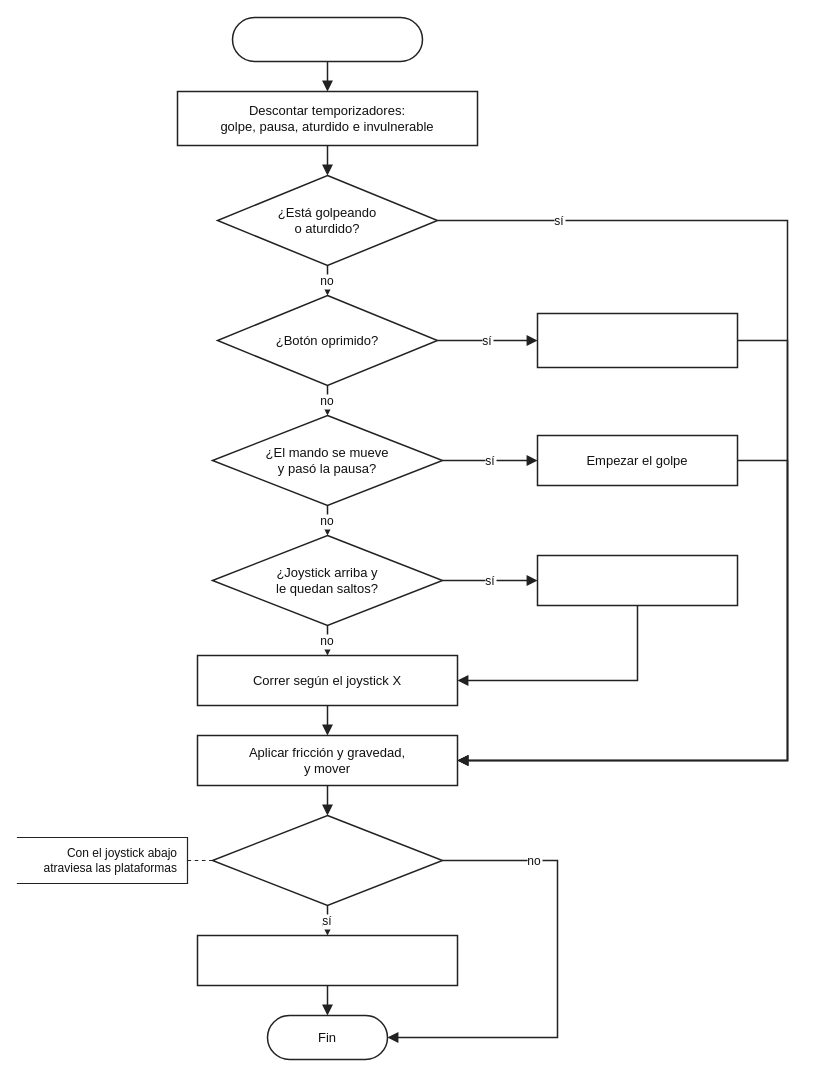
Image size: 815x1078. Some labels were removed from this diagram. Each missing label, with the box of its shape:
Actualizar luchador: (231, 16, 423, 62)
Escudo: se queda quieto: (536, 312, 738, 368)
Quedar en el suelo y recargar los 2 saltos: (196, 934, 458, 986)
Saltar: (536, 554, 738, 606)
¿Cae sobre la isla o una plataforma?: (211, 814, 443, 906)
